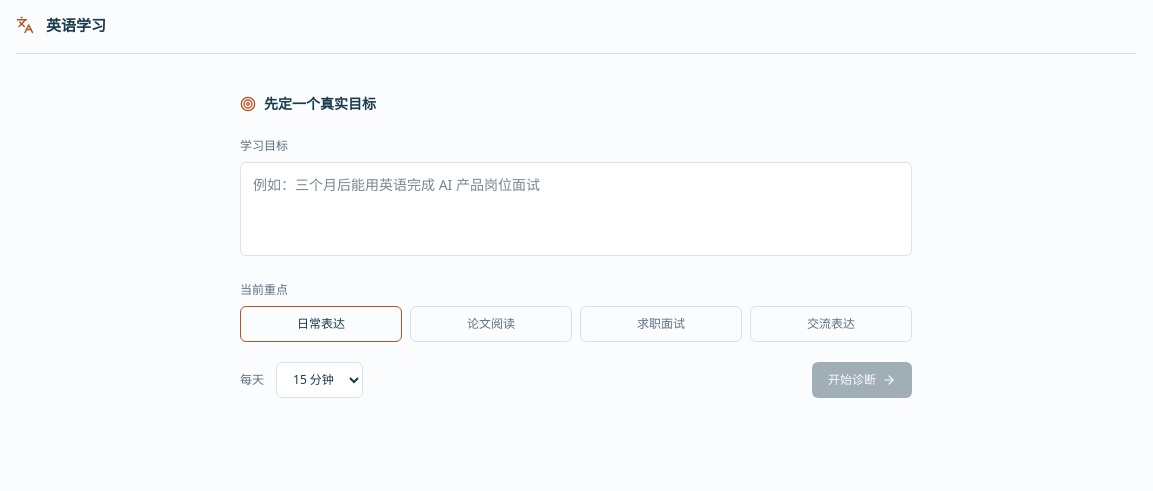
Test: EnglishLearningPage › removes the empty conversation when the first diagnostic message is rejected
Type "能完成英文面试" into the text box labelled "学习目标" at (576, 208), box [240,162,912,256]
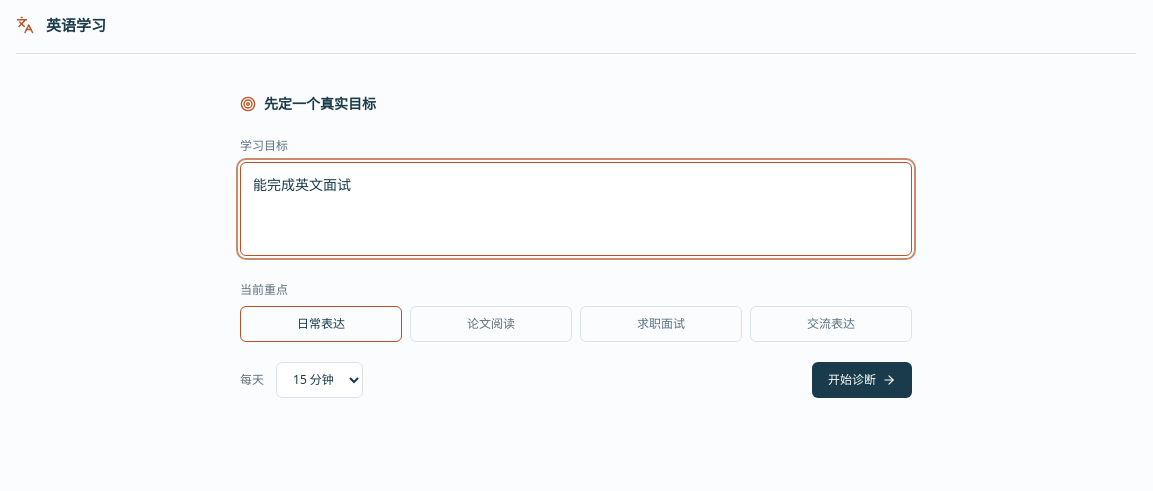
Click the button "开始诊断" at (862, 380), box [812,362,912,398]
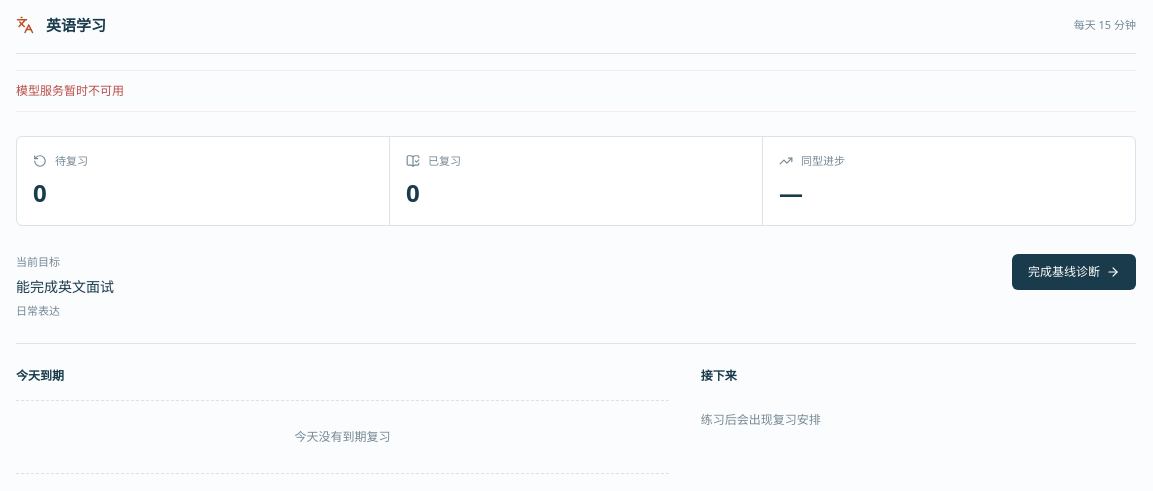
Check: the message reads "模型服务暂时不可用", box [16,82,124,98]
